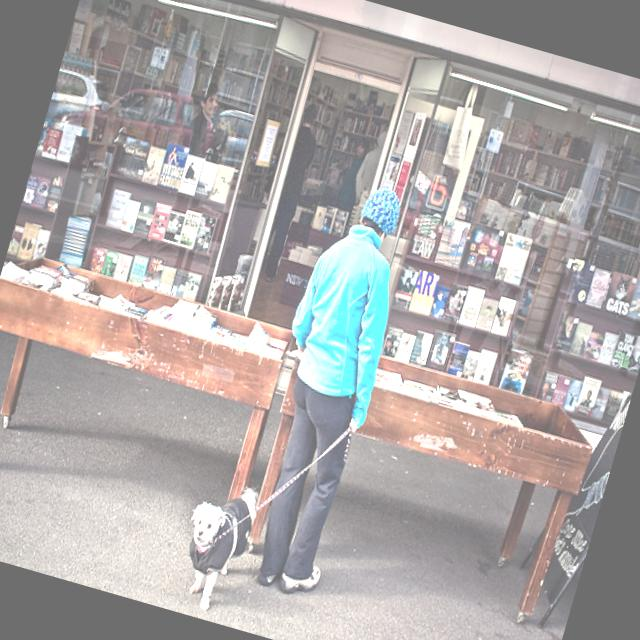Vehicle: (88, 70, 204, 166), (45, 66, 113, 133), (206, 104, 256, 170)
